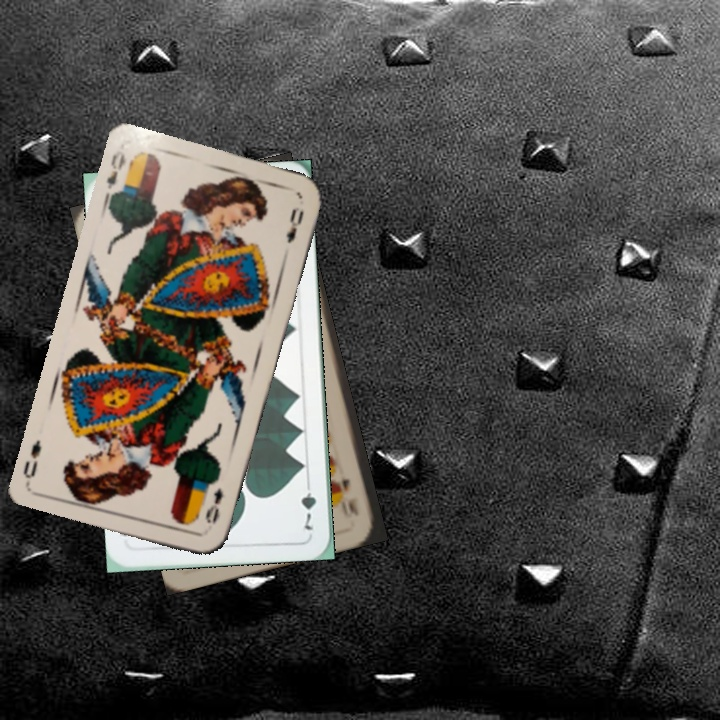E10: (337, 474, 361, 519)
EO: (100, 146, 135, 204), (201, 484, 226, 527)
G7: (297, 475, 319, 534)
